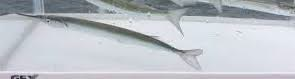sayori: (15, 9, 210, 72)
